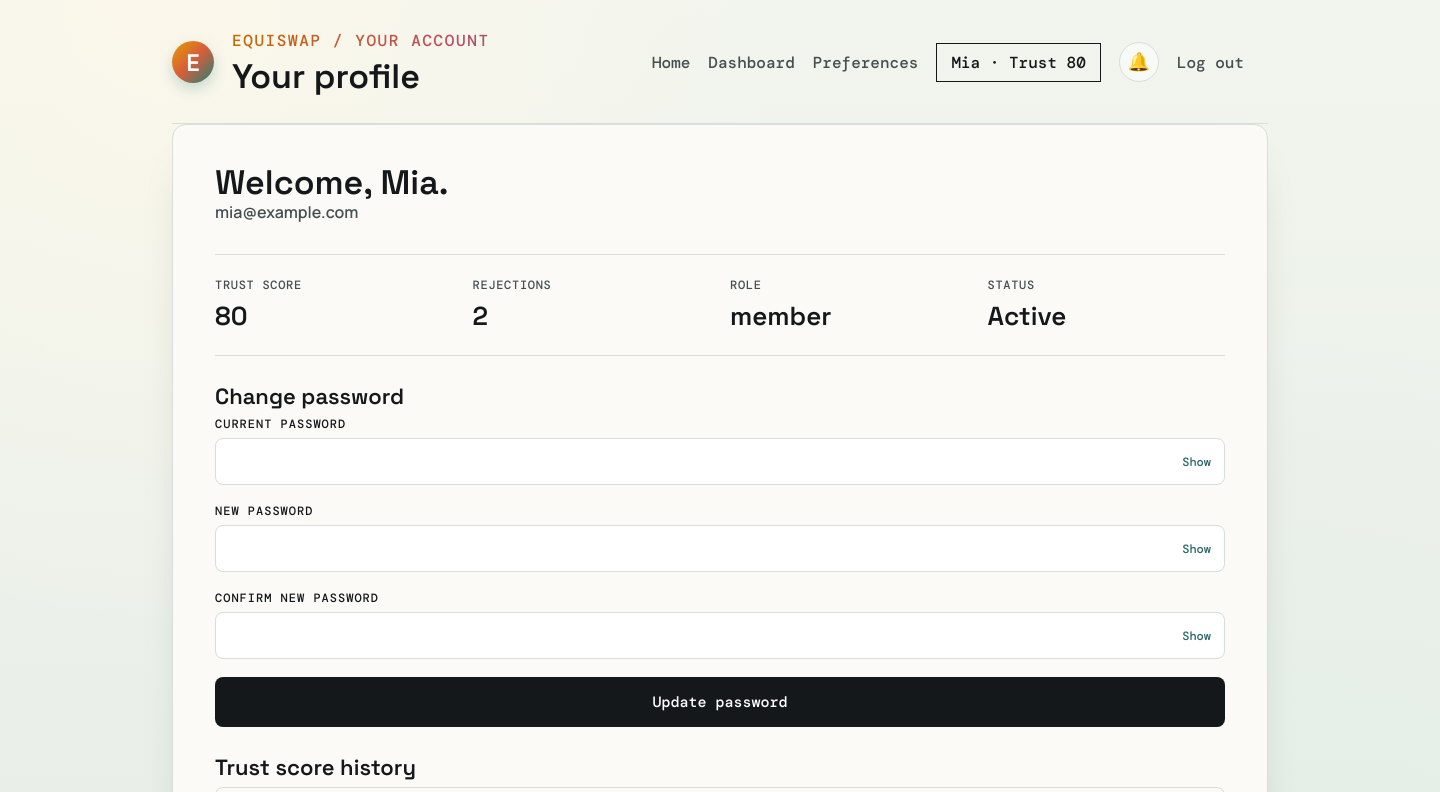
Scenario: ProfilePage › shows an error when the password update request fails
Type "old-pass" into the password field labelled "Current password". click: [720, 462]
box: [215,438,1225,485]
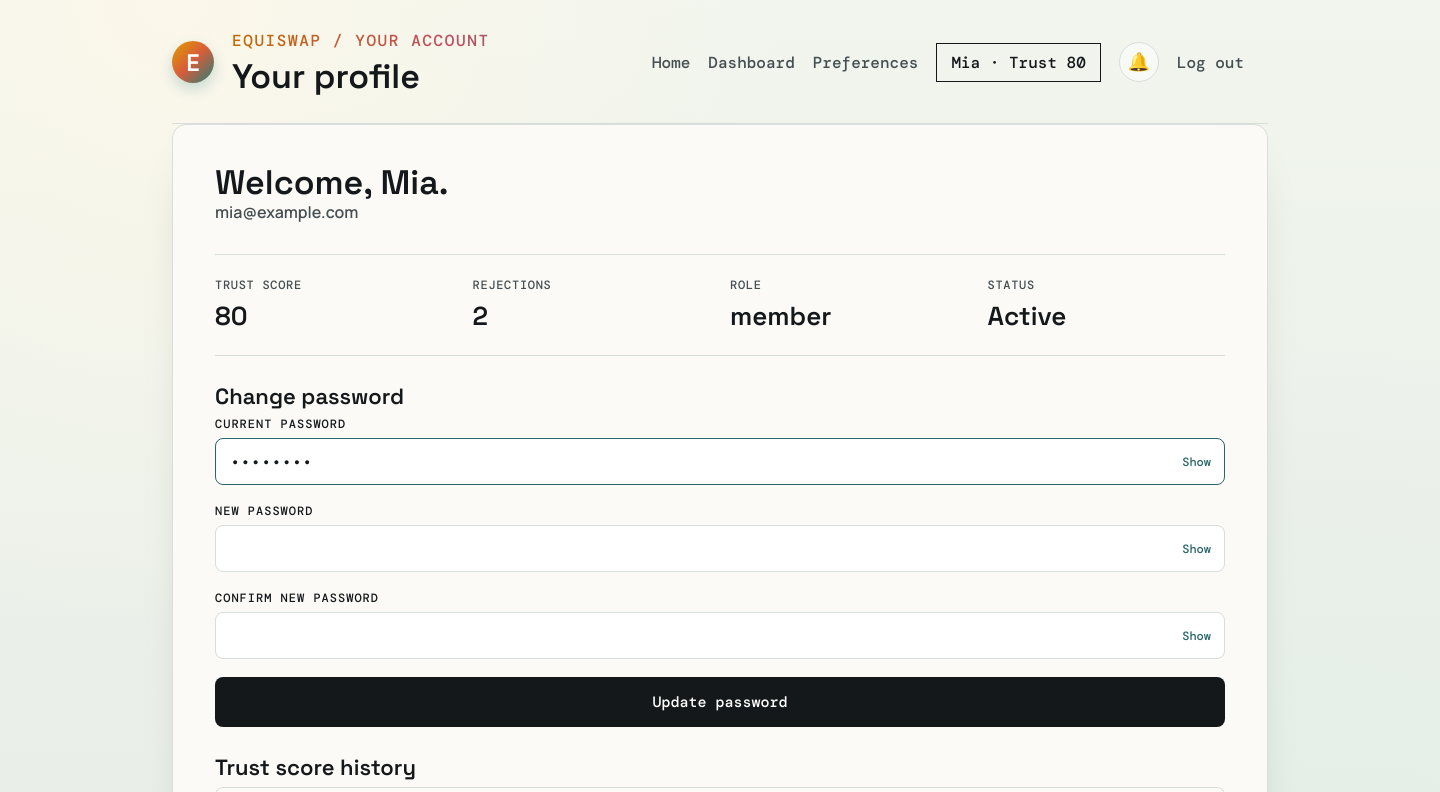
Type "new-password" into the password field labelled "New password". click: [720, 549]
box: [215,525,1225,572]
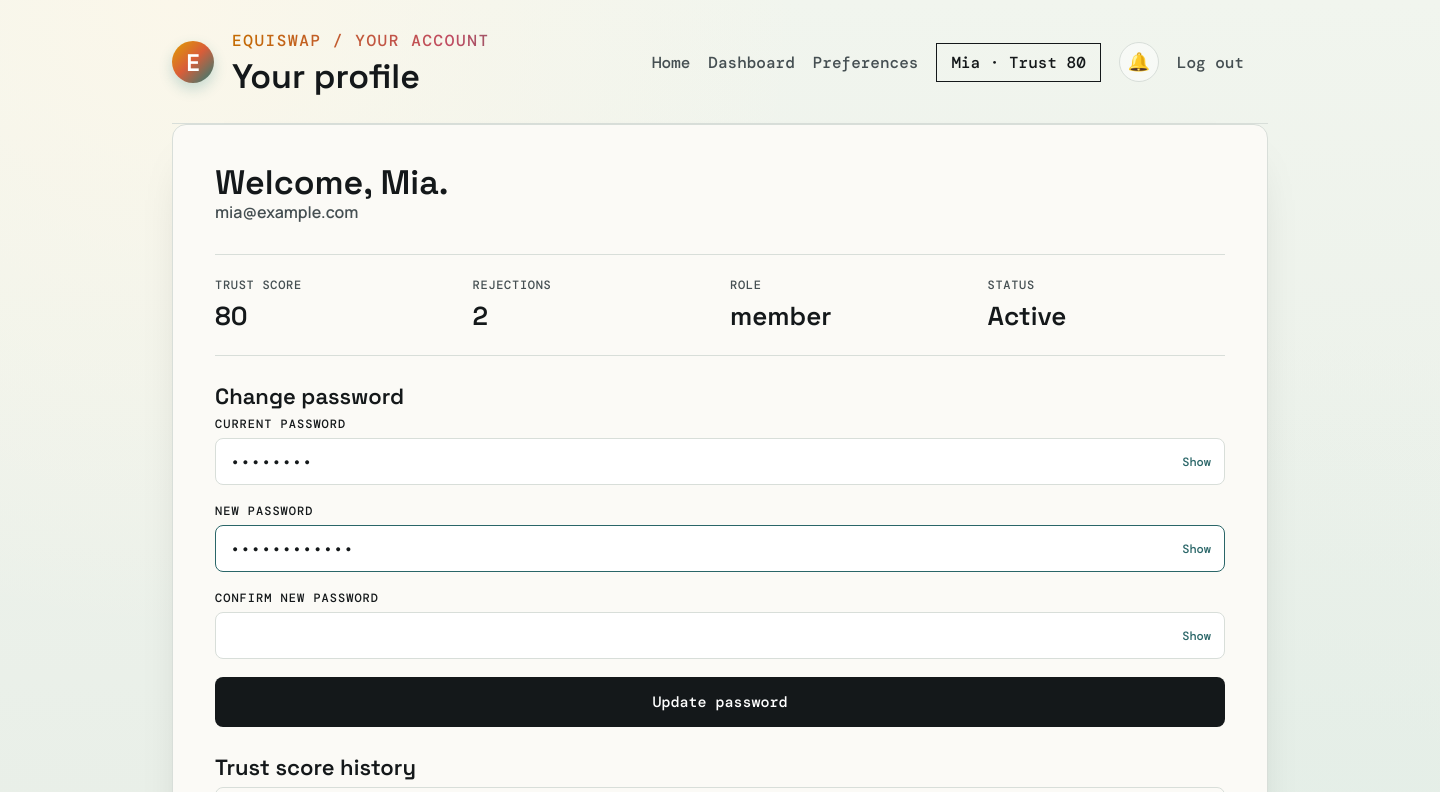
Type "new-password" into the password field labelled "Confirm new password". click: [720, 636]
box: [215,612,1225,659]
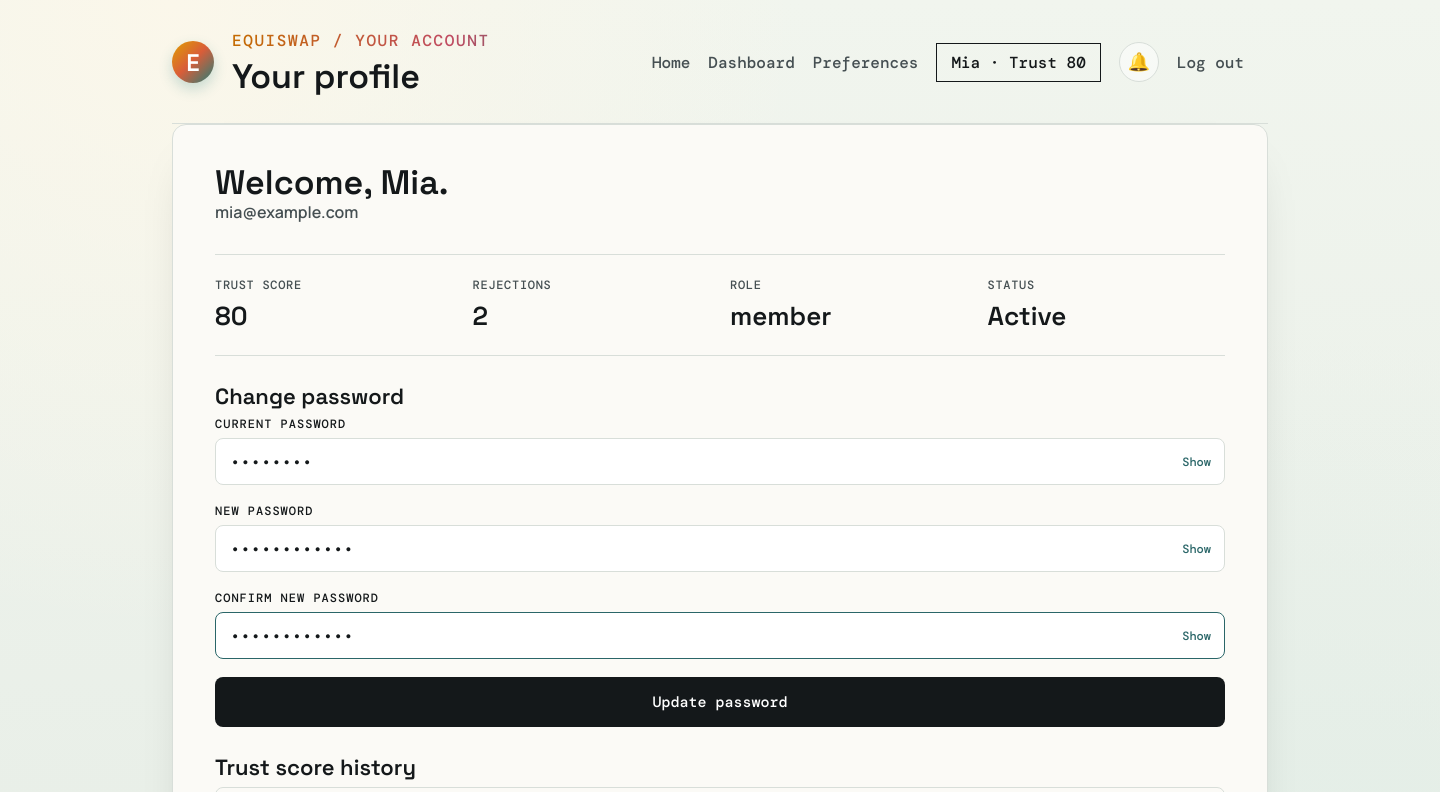
Click the button "Update password". click: [720, 702]
box: [215,677,1225,727]
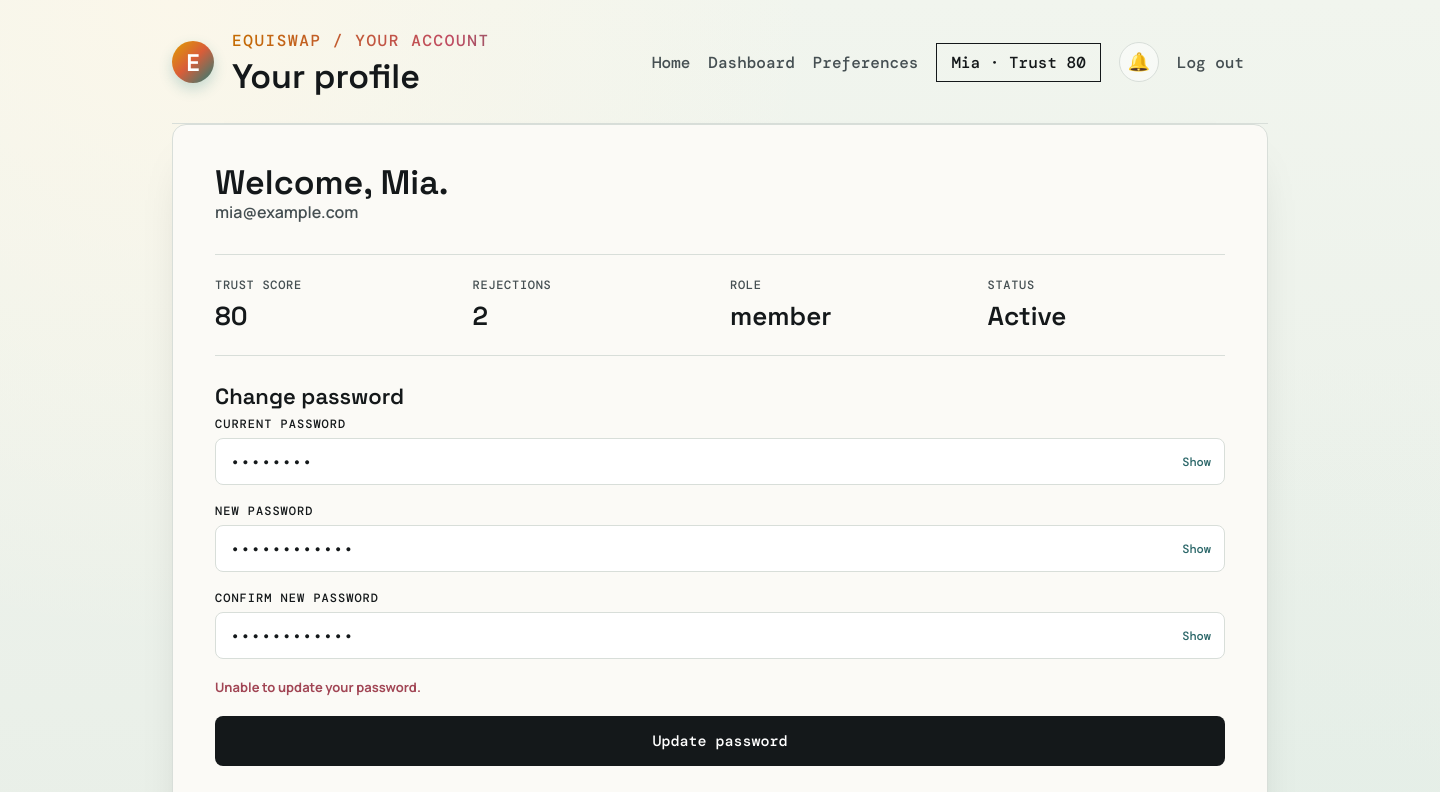
Now the text "Unable to update your password." is shown, box [215,678,421,696]
